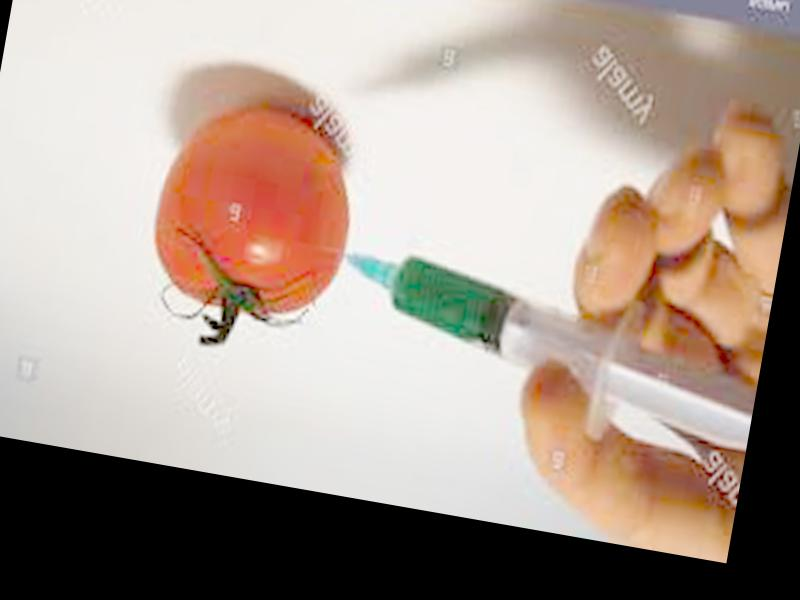Tomato: (145, 94, 366, 326)
